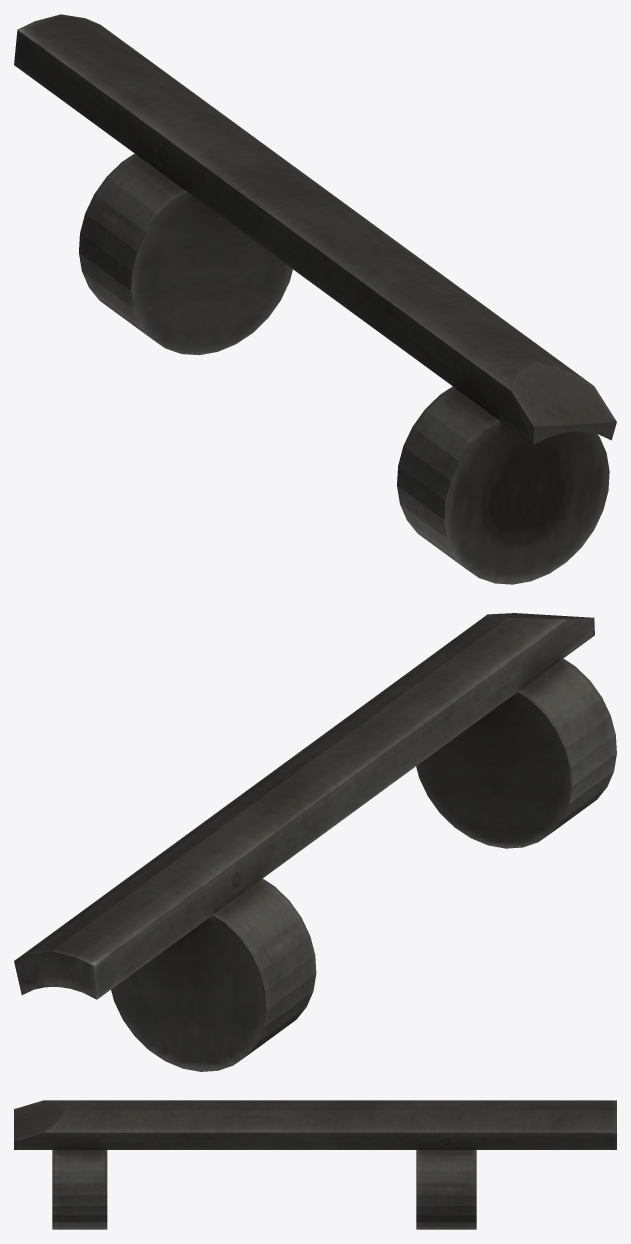
The picture shows the model from 3 angles, top to bottom: view 1: azimuth 30°, elevation 25°; view 2: azimuth 150°, elevation 25°; view 3: azimuth 270°, elevation 25°; orthographic projection. The views are drawn at different scales.
Parts seen in each view (by area): view 1: TW_55801eed4bdc2d89578b4588_PZ_Import; view 2: TW_55801eed4bdc2d89578b4588_PZ_Import; view 3: TW_55801eed4bdc2d89578b4588_PZ_Import.
Boxes of the visible parts, x1,y1,x2,y2 form: TW_55801eed4bdc2d89578b4588_PZ_Import: (14, 14, 616, 584); TW_55801eed4bdc2d89578b4588_PZ_Import: (14, 613, 616, 1071); TW_55801eed4bdc2d89578b4588_PZ_Import: (14, 1100, 616, 1229).
Bounding box in the file's own units: 0.0104 × 0.0564 × 0.0124.
1 material, 1 textured.
